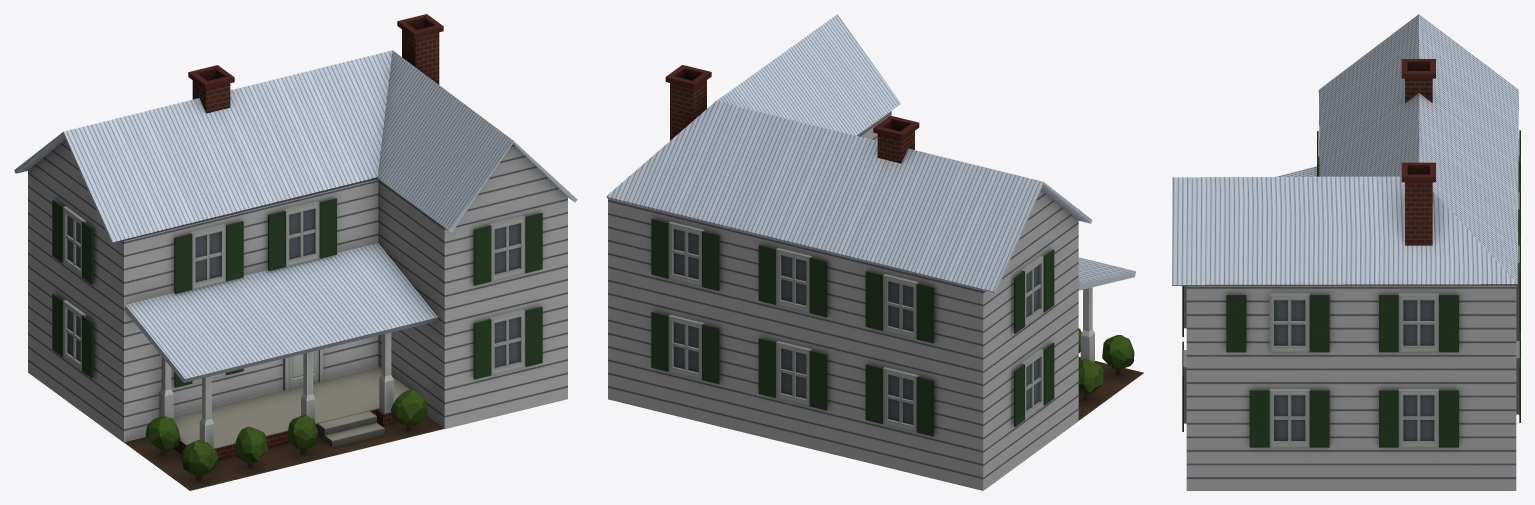
The model's file is Farm house.glb.
3 renders of one model, left to right at view 1: azimuth 30°, elevation 25°; view 2: azimuth 150°, elevation 25°; view 3: azimuth 270°, elevation 25°, orthographic. The views are drawn at different scales.
Parts seen in each view (by area): view 1: FarmHouse_Mesh; view 2: FarmHouse_Mesh; view 3: FarmHouse_Mesh.
Part boxes in pixels (<box>): FarmHouse_Mesh: <box>14,14,577,490</box>; FarmHouse_Mesh: <box>606,14,1143,490</box>; FarmHouse_Mesh: <box>1172,14,1520,490</box>.
Bounding box in the file's own units: 830352 × 603879 × 626610.
1 material, 1 textured.
